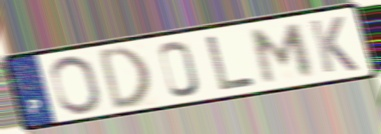0: (158, 39, 202, 100)
D: (96, 43, 154, 113)
K: (306, 14, 362, 76)
L: (203, 34, 259, 93)
M: (250, 21, 317, 86)
O: (48, 53, 105, 115)
